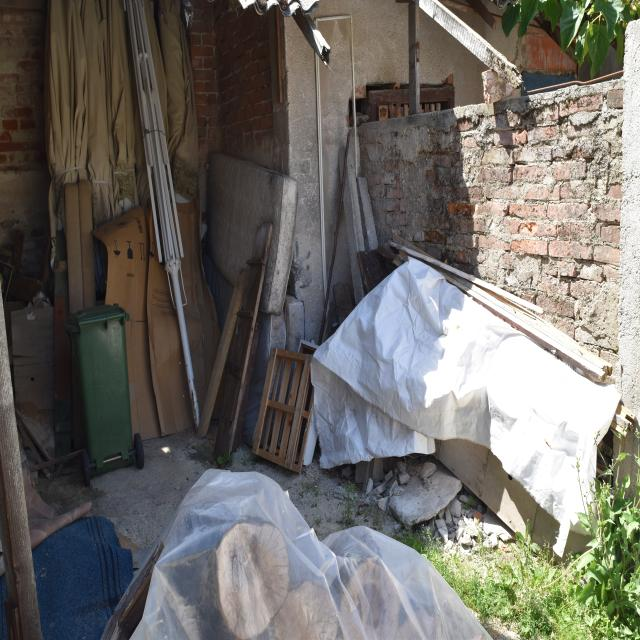entulho: (310, 248, 626, 539), (37, 3, 194, 296), (148, 464, 341, 640), (92, 207, 222, 430), (317, 524, 527, 640), (196, 217, 275, 459), (0, 291, 47, 630), (208, 151, 283, 312), (92, 528, 166, 638), (264, 344, 315, 471), (11, 304, 55, 418), (2, 229, 48, 310), (355, 169, 381, 254)
